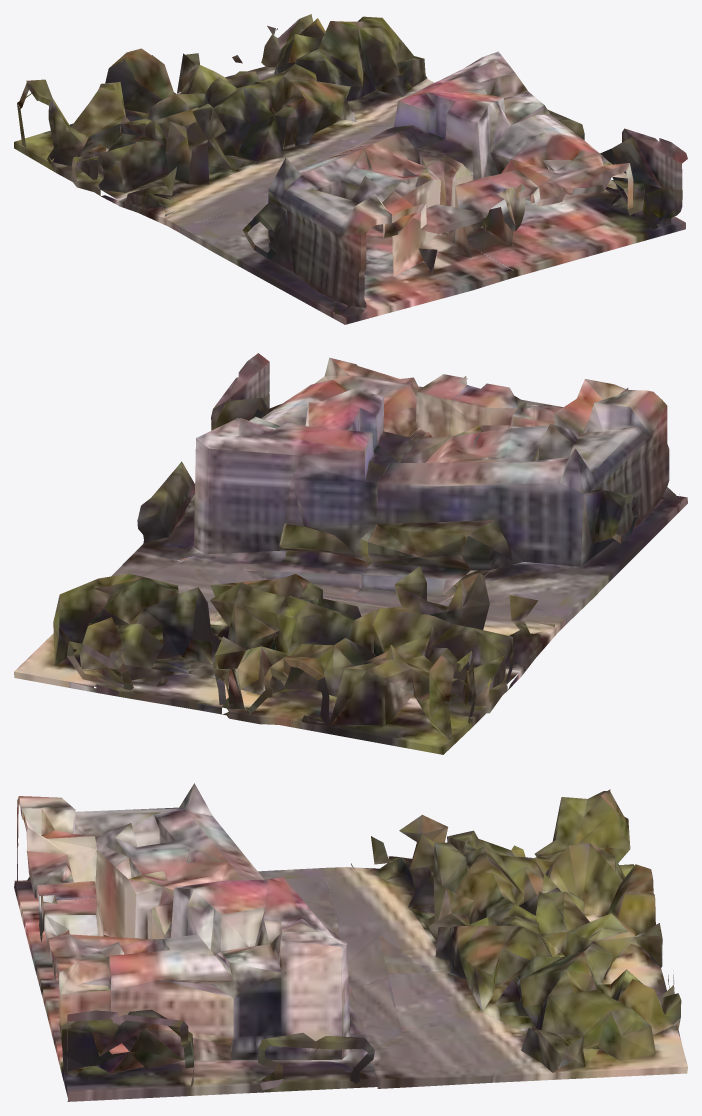
3 views of the same model, one above another, from view 1: azimuth 30°, elevation 25°; view 2: azimuth 150°, elevation 25°; view 3: azimuth 270°, elevation 25° (orthographic). The views are drawn at different scales.
Visible parts, largest first — view 1: Mesh_0; view 2: Mesh_0; view 3: Mesh_0.
Boxes of the visible parts, x1,y1,x2,y2 form: Mesh_0: (14,14,687,324); Mesh_0: (14,353,687,754); Mesh_0: (14,783,687,1101).
Size of the model in its own units: 134 by 37.89 by 165.
Materials: 1 (1 with a texture image).
